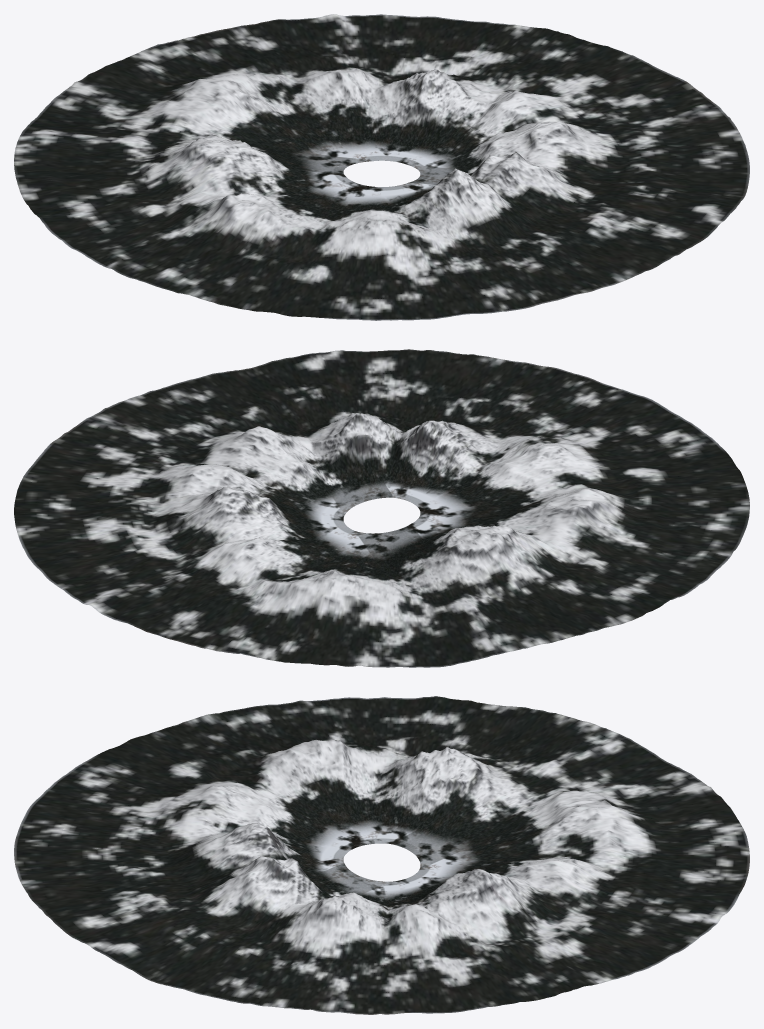
The model's file is mountains.glb.
3 views of the same model, one above another, from view 1: azimuth 30°, elevation 25°; view 2: azimuth 150°, elevation 25°; view 3: azimuth 270°, elevation 25° (orthographic).
Visible parts, largest first — view 1: mountains; view 2: mountains; view 3: mountains.
Part boxes in pixels (x1,y1,x2,y2): mountains: (14, 14, 749, 320); mountains: (14, 349, 749, 667); mountains: (14, 696, 749, 1014).
Bounding box in the file's own units: 22000 × 1625 × 22000.
Materials: 1 (1 with a texture image).
